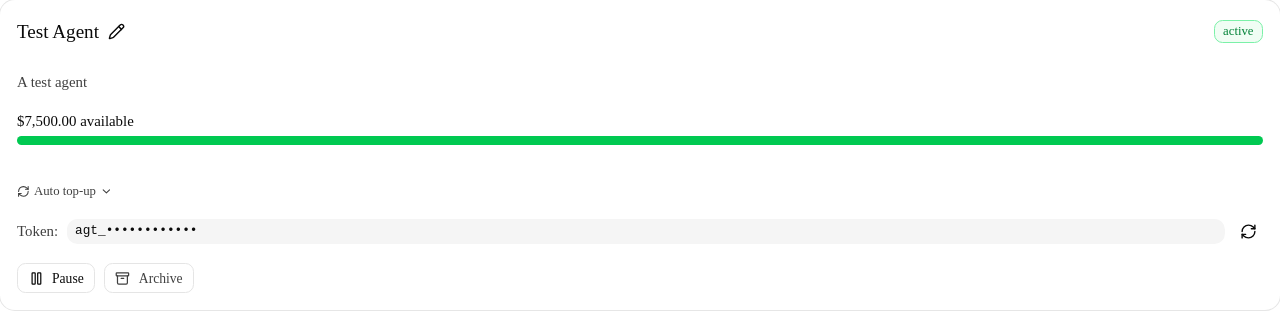
Test: AgentCard › budget top-up › clicking budget bar opens top-up form
The image size is (1280, 328).
Step 1. Click the text "Click to top up budget" → [47, 120], box x1=17 y1=112 x2=1263 y2=144
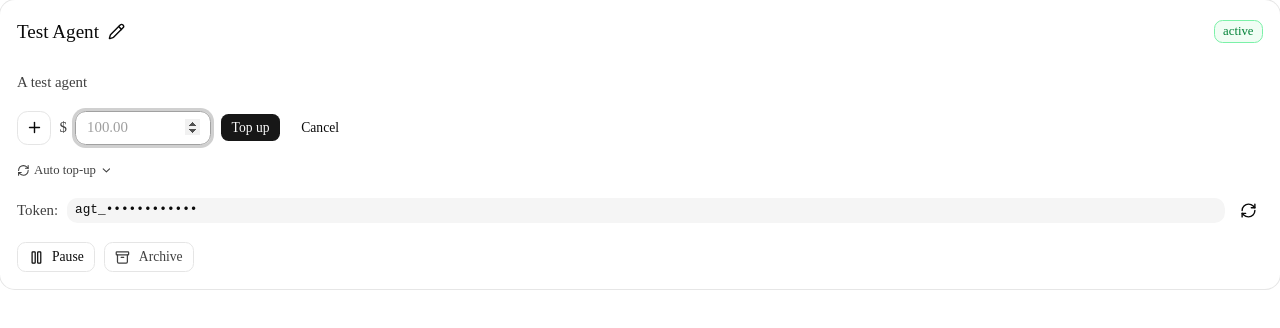
Now the number field with placeholder "100.00" is shown, box x1=75 y1=110 x2=211 y2=144
Now the button "Top up" is shown, box x1=220 y1=113 x2=281 y2=142
Now the button "Cancel" is shown, box x1=290 y1=113 x2=351 y2=142
